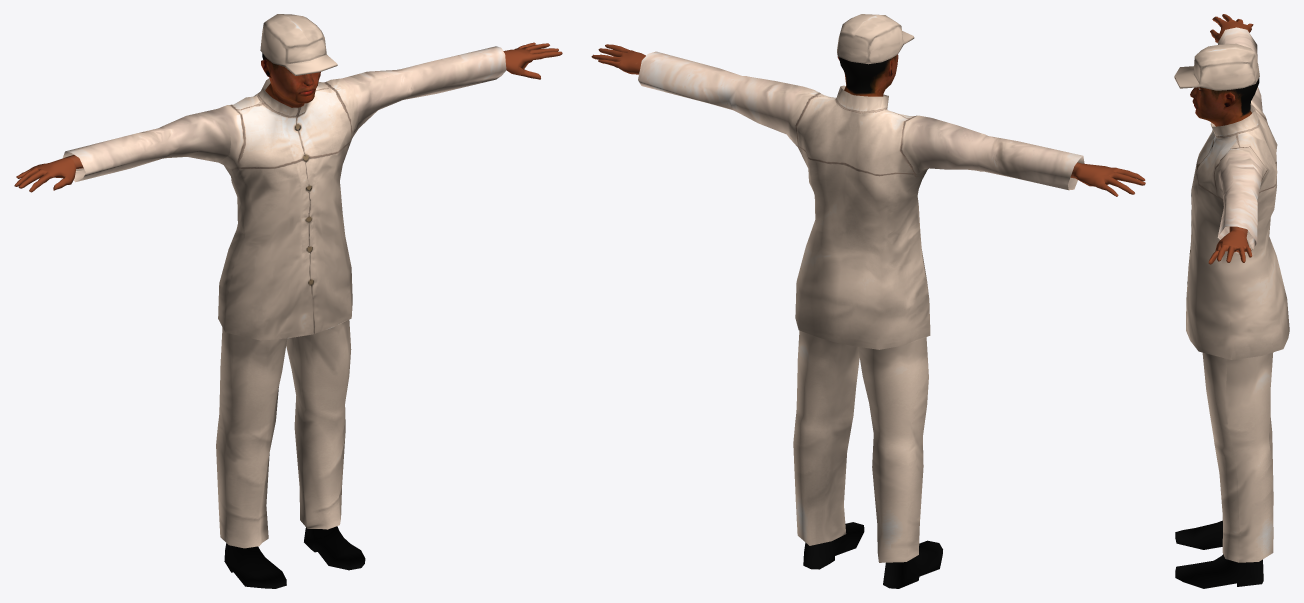
The model's file is PlayerRecruta2.0.fbx.
3 renders of one model, left to right at view 1: azimuth 30°, elevation 25°; view 2: azimuth 150°, elevation 25°; view 3: azimuth 270°, elevation 25°, orthographic. The views are drawn at different scales.
Parts seen in each view (by area): view 1: Corpo, Keep, Cabeca; view 2: Corpo, Keep, Cabeca; view 3: Corpo, Keep, Cabeca.
Part boxes in pixels (x1,y1,x2,y2): Corpo: [14, 42, 562, 588]; Keep: [260, 14, 337, 75]; Cabeca: [261, 53, 320, 107]; Corpo: [591, 44, 1145, 588]; Keep: [837, 14, 914, 64]; Cabeca: [837, 54, 898, 96]; Corpo: [1175, 14, 1289, 588]; Keep: [1174, 43, 1259, 90]; Cabeca: [1190, 78, 1259, 126].
Size of the model in its own units: 171 by 163 by 33.18.
Materials: 2 (1 with a texture image).
